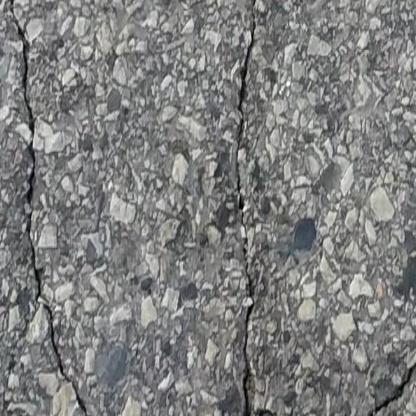Cracks: (0, 0, 108, 416), (232, 0, 269, 344), (340, 325, 416, 416), (228, 350, 317, 416)
